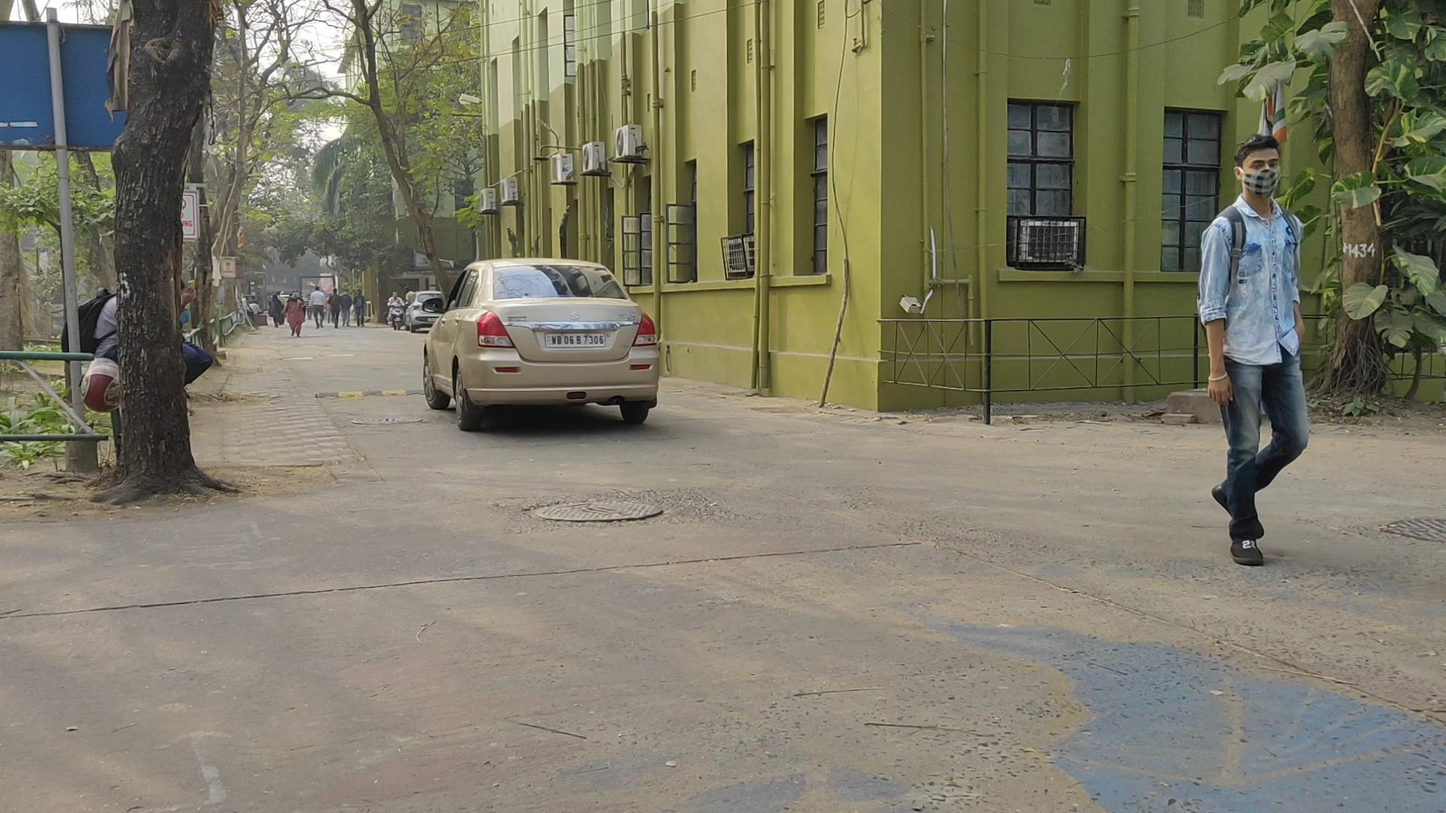bike: (386, 290, 408, 332)
car: (423, 259, 660, 432), (404, 290, 444, 332)
